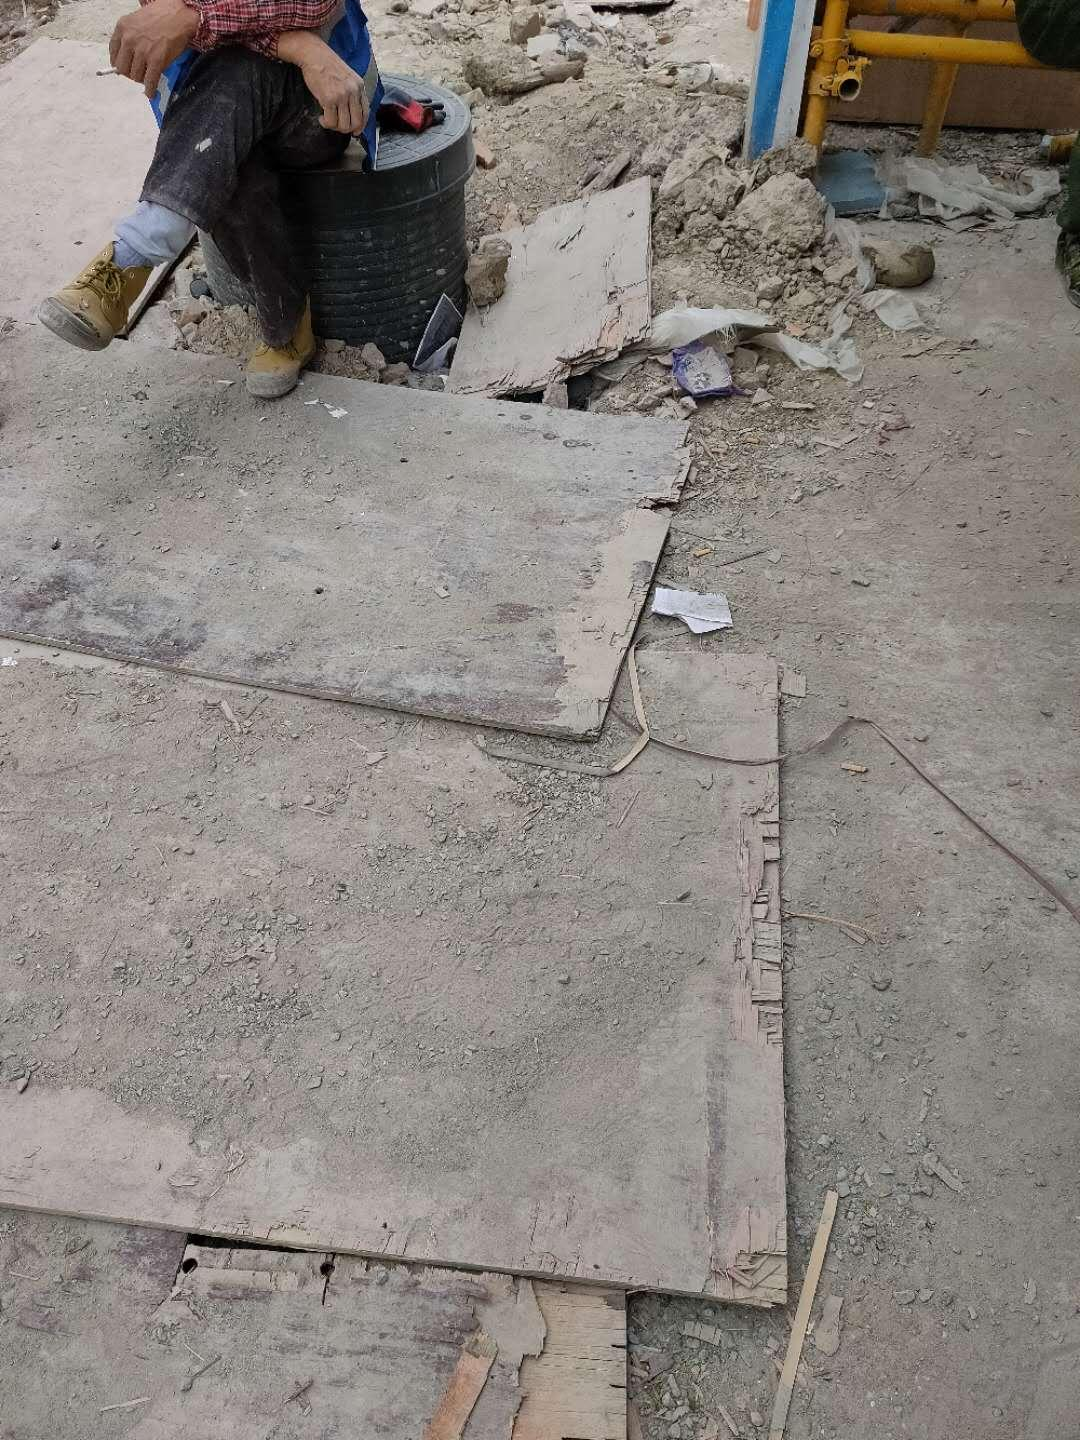Cigarette: (96, 66, 126, 75)
